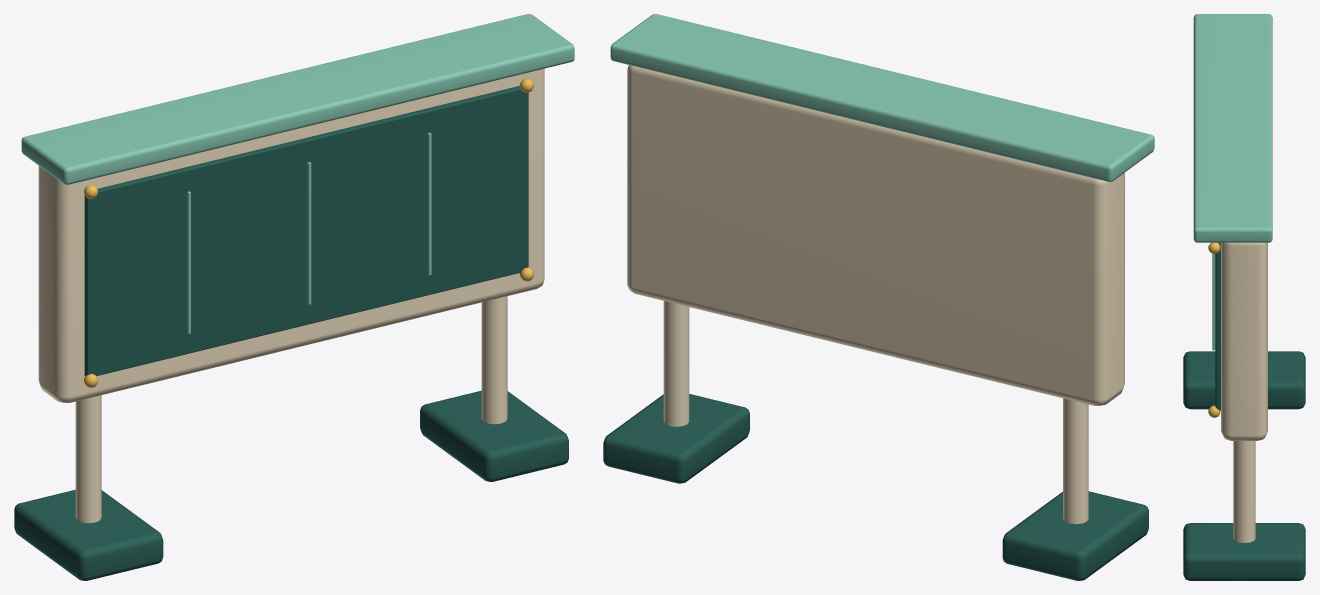
File: athlete_scoreboard.glb
3 renders of one model, left to right at view 1: azimuth 30°, elevation 25°; view 2: azimuth 150°, elevation 25°; view 3: azimuth 270°, elevation 25°, orthographic. The views are drawn at different scales.
Visible parts, largest first — view 1: athlete_scoreboard__ink, athlete_scoreboard__cream, athlete_scoreboard__mint; view 2: athlete_scoreboard__cream, athlete_scoreboard__mint, athlete_scoreboard__ink; view 3: athlete_scoreboard__mint, athlete_scoreboard__ink, athlete_scoreboard__cream, athlete_scoreboard__gold.
Boxes of the visible parts, x1,y1,x2,y2 form: athlete_scoreboard__ink: (14,86,568,580); athlete_scoreboard__cream: (38,68,544,523); athlete_scoreboard__mint: (21,14,574,333); athlete_scoreboard__cream: (627,65,1124,524); athlete_scoreboard__mint: (610,14,1154,181); athlete_scoreboard__ink: (603,394,1148,580); athlete_scoreboard__mint: (1193,14,1272,350); athlete_scoreboard__ink: (1183,242,1305,580); athlete_scoreboard__cream: (1221,242,1267,542); athlete_scoreboard__gold: (1208,242,1220,417).
Bounding box in the file's own units: 2.72 × 2.11 × 0.65.
